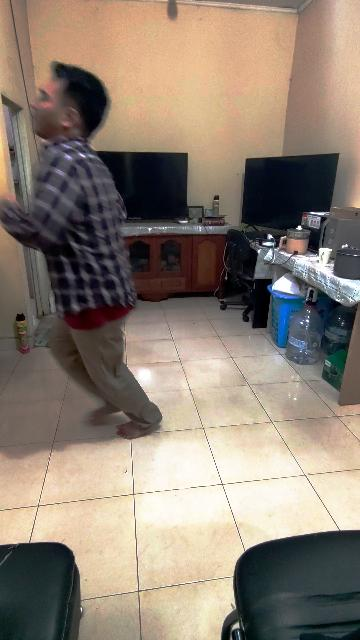berlari: (0, 62, 162, 442)
